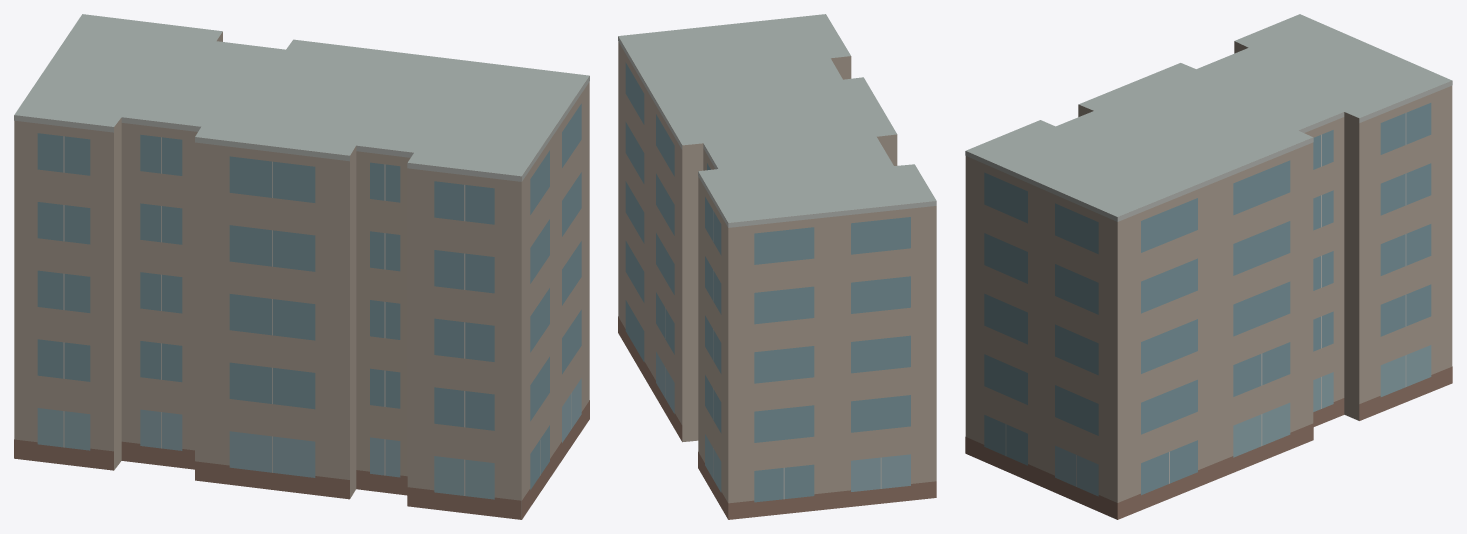
The model's file is survey-upis-32581921.glb.
3 views of the same model, side by side, from view 1: azimuth 30°, elevation 25°; view 2: azimuth 150°, elevation 25°; view 3: azimuth 270°, elevation 25° (orthographic). The views are drawn at different scales.
Parts seen in each view (by area): view 1: survey-upis-32581921.tmp; view 2: survey-upis-32581921.tmp; view 3: survey-upis-32581921.tmp.
Part boxes in pixels (<box>): survey-upis-32581921.tmp: <box>14,14,589,519</box>; survey-upis-32581921.tmp: <box>618,14,936,519</box>; survey-upis-32581921.tmp: <box>965,14,1452,519</box>.
Size of the model in its own units: 21.66 by 15.05 by 21.94.
